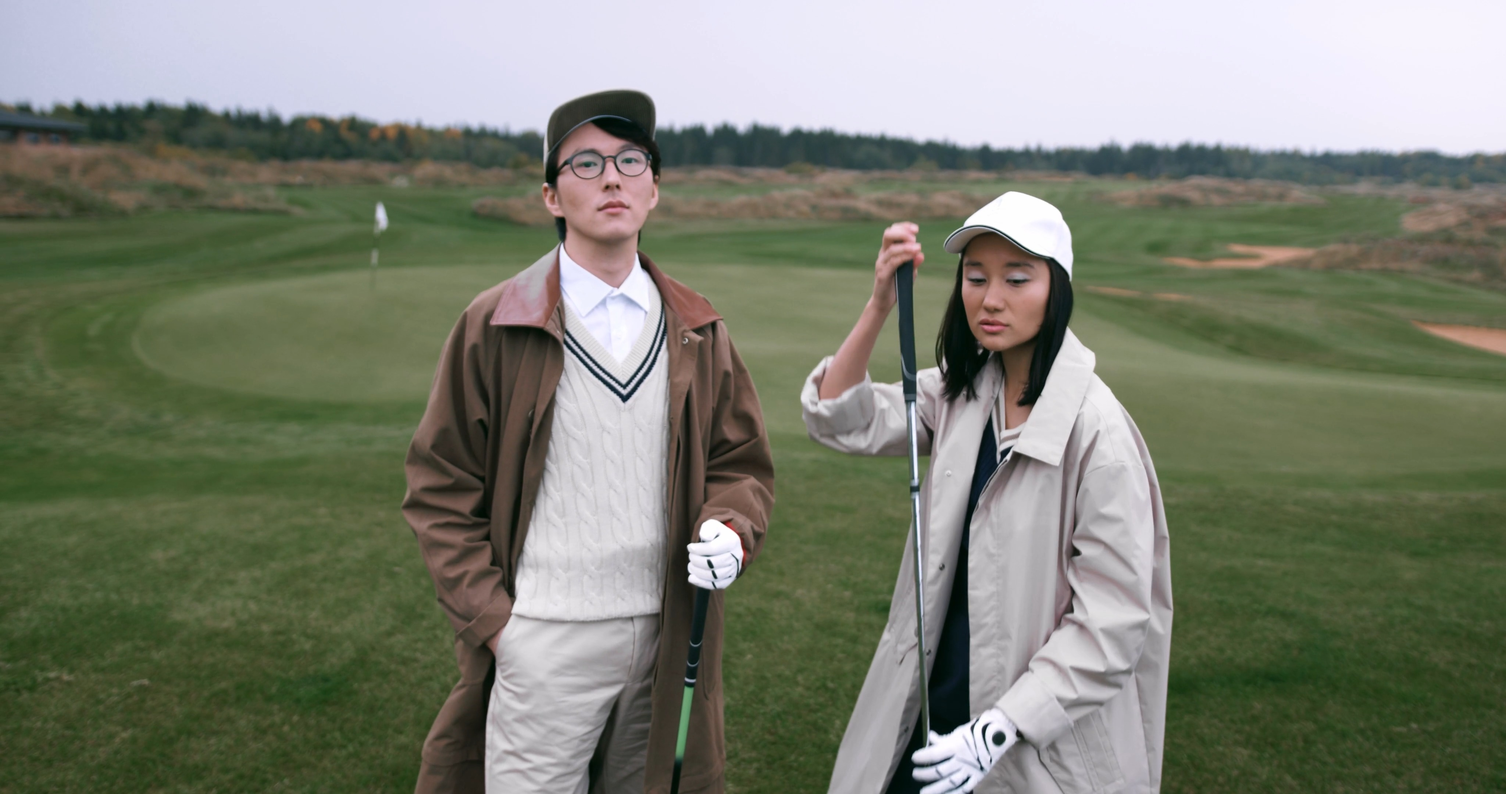No-gloves: (866, 213, 943, 302)
gloves: (682, 502, 773, 610), (903, 708, 1010, 794)
